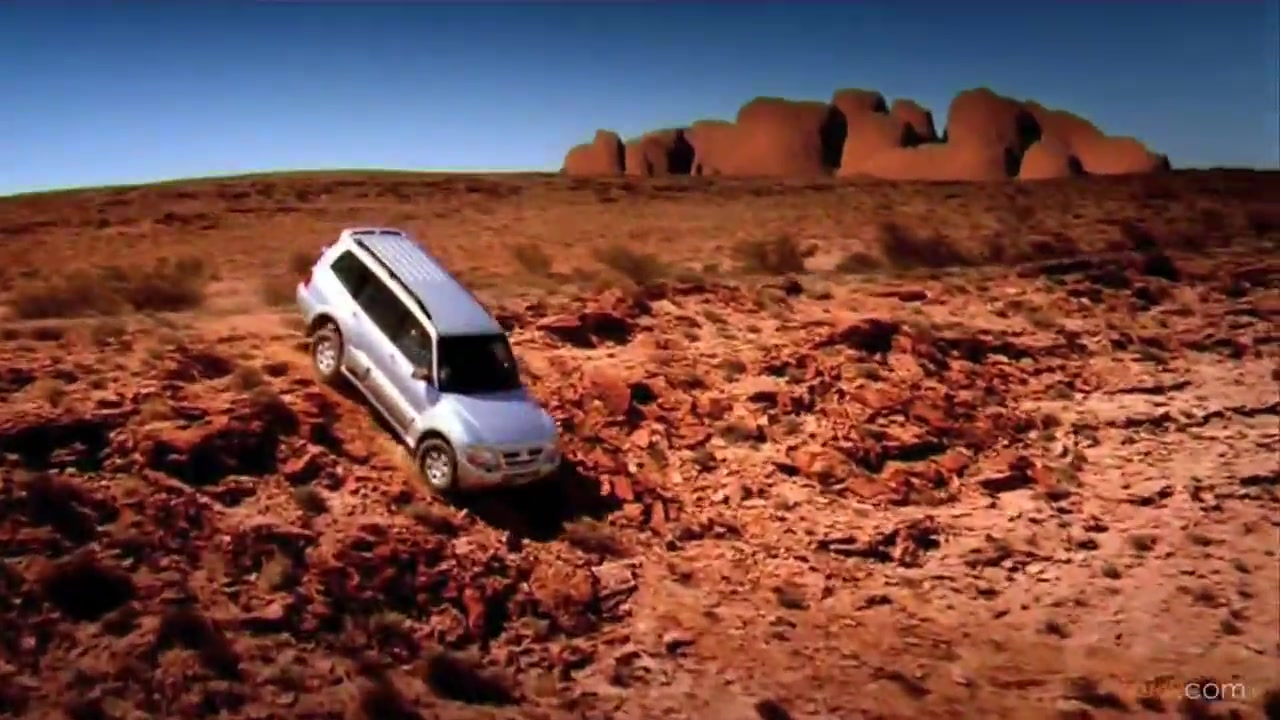car: (294, 225, 559, 501)
